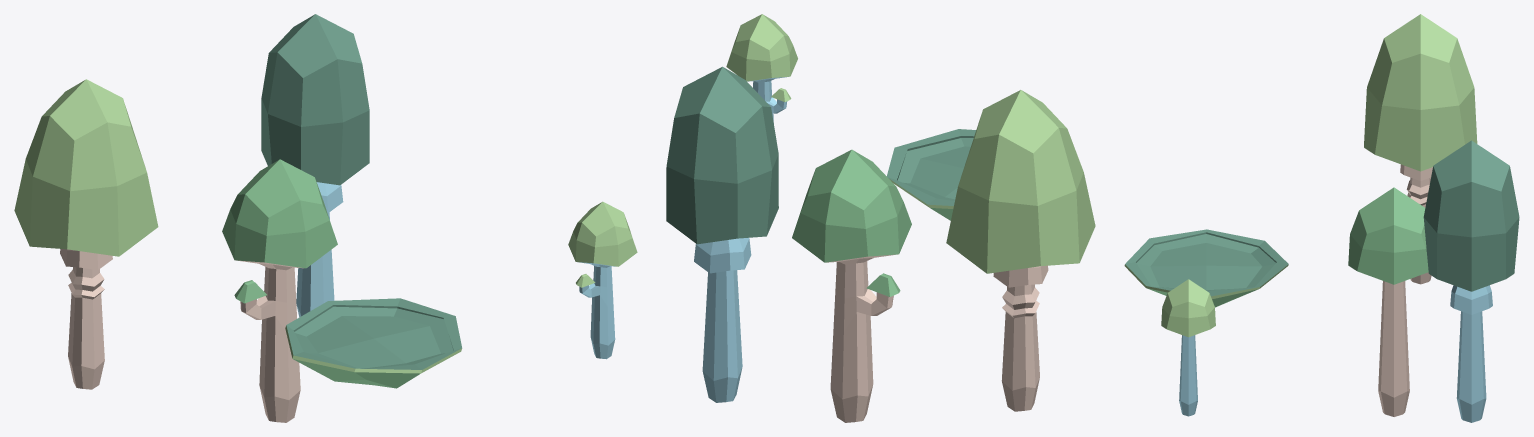
Rendered from Shrooms.fbx.
3 renders of one model, left to right at view 1: azimuth 30°, elevation 25°; view 2: azimuth 150°, elevation 25°; view 3: azimuth 270°, elevation 25°, orthographic. The views are drawn at different scales.
Parts seen in each view (by area): view 1: Cube.277, Cube.276, Cube.279, Cube.275, Cube.278; view 2: Cube.277, Cube.276, Cube.279, Cube.275, Cube.278; view 3: Cube.276, Cube.277, Cube.279, Cube.275, Cube.278.
Part boxes in pixels (box(x1,y1,x2,y2)): Cube.277: box(14, 79, 158, 389); Cube.276: box(261, 14, 369, 317); Cube.279: box(222, 159, 337, 422); Cube.275: box(285, 298, 462, 388); Cube.278: box(568, 201, 637, 359); Cube.277: box(946, 90, 1095, 411); Cube.276: box(666, 66, 778, 402); Cube.279: box(792, 149, 911, 422); Cube.275: box(886, 129, 976, 220); Cube.278: box(726, 14, 797, 123); Cube.276: box(1423, 140, 1519, 422); Cube.277: box(1364, 14, 1477, 284); Cube.279: box(1348, 187, 1428, 416); Cube.275: box(1124, 229, 1288, 307); Cube.278: box(1161, 279, 1215, 416).
Size of the model in its own units: 162 by 124 by 137.
